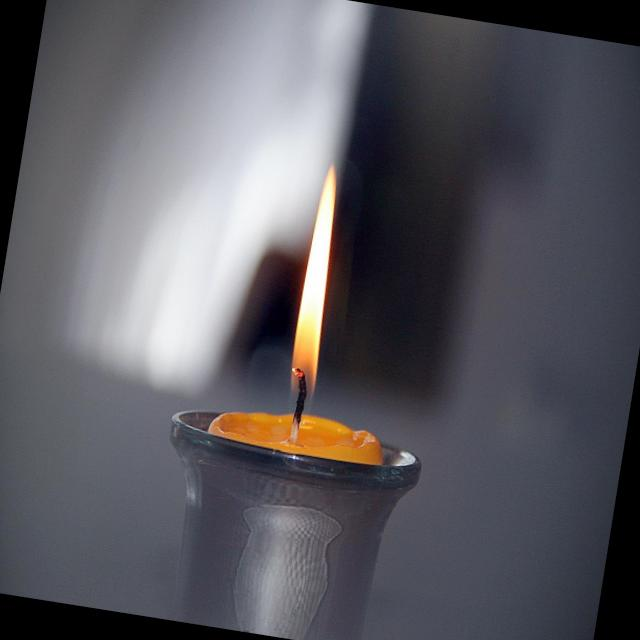Fire_Save: (205, 149, 428, 468), (284, 160, 350, 406)
